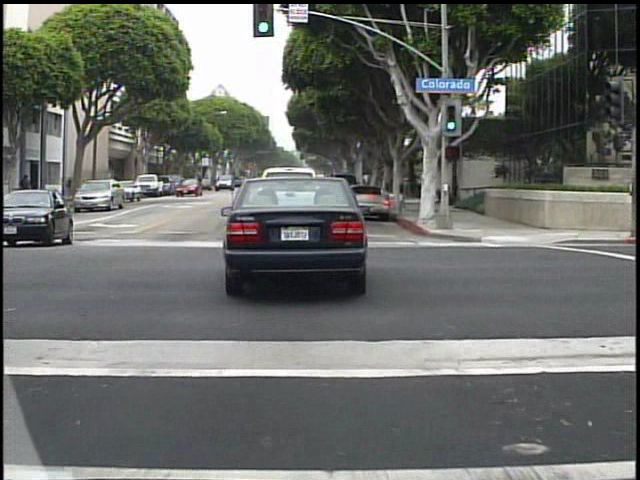person: (17, 169, 36, 208)
